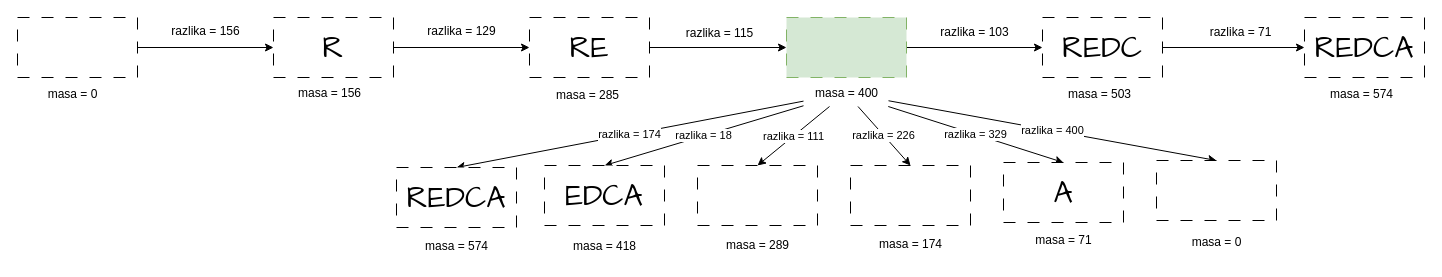
The diagram is 1442 pixels wide and 277 high, and some of its shapes have lost their labels. Each missing label, with the box of its shape:
CA: (850, 164, 970, 226)
DCA: (696, 164, 818, 226)
RED: (786, 16, 906, 78)
